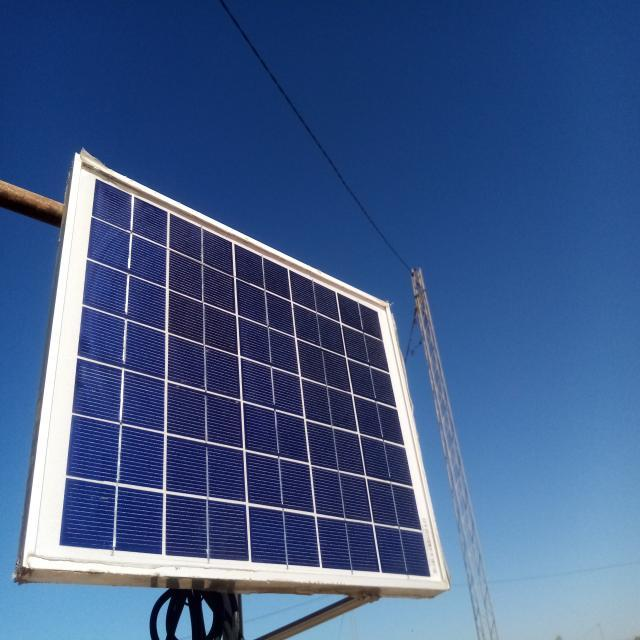no faulty: (18, 152, 448, 585)
